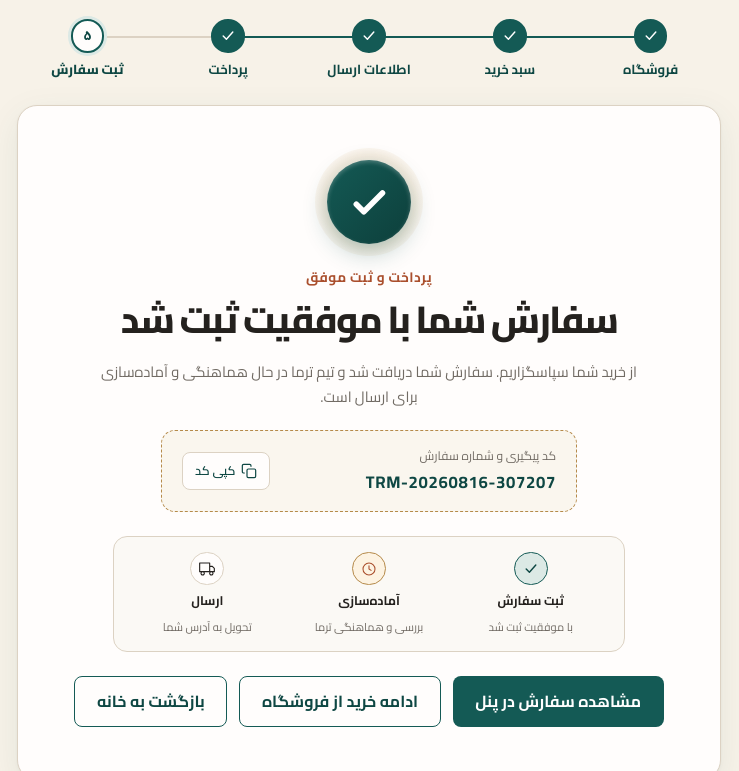
Scenario: OrderStatus › renders success state with animated celebration, order number, and copy button, and clears cart
The width and height of the screenshot is (739, 771).
Check: the text "پرداخت و ثبت موفق" is shown, box top-left (306, 264), bottom-right (432, 290)
Check: the heading "سفارش شما با موفقیت ثبت شد" is shown, box top-left (121, 284), bottom-right (617, 354)
What coordinates should you click on to do the following:
click the button with aria-label "کپی شماره سفارش"
I would click on:
 (226, 471)
Its box is top-left (182, 452), bottom-right (270, 490).
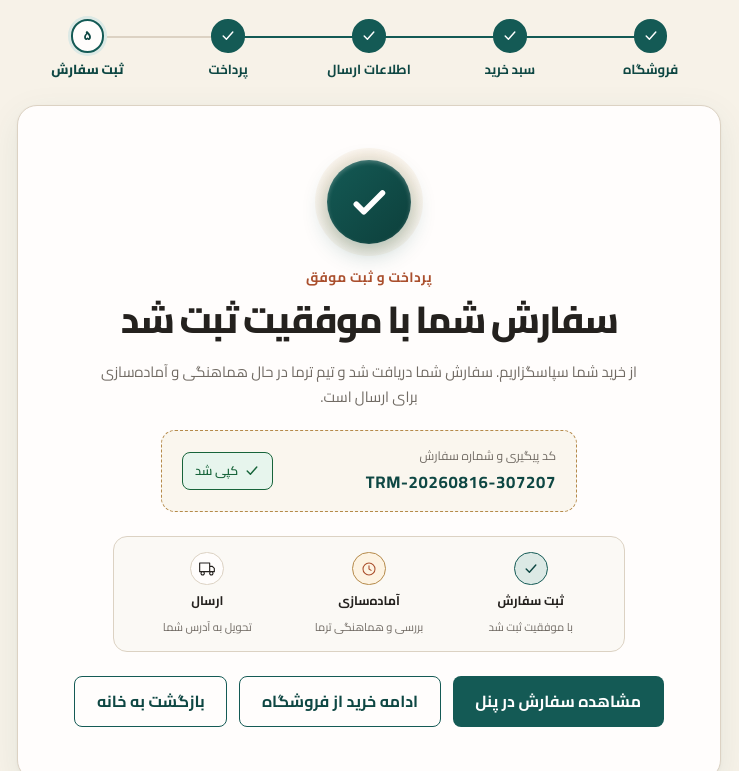
Check: the button "کپی شد" is shown, box top-left (182, 452), bottom-right (273, 490)
